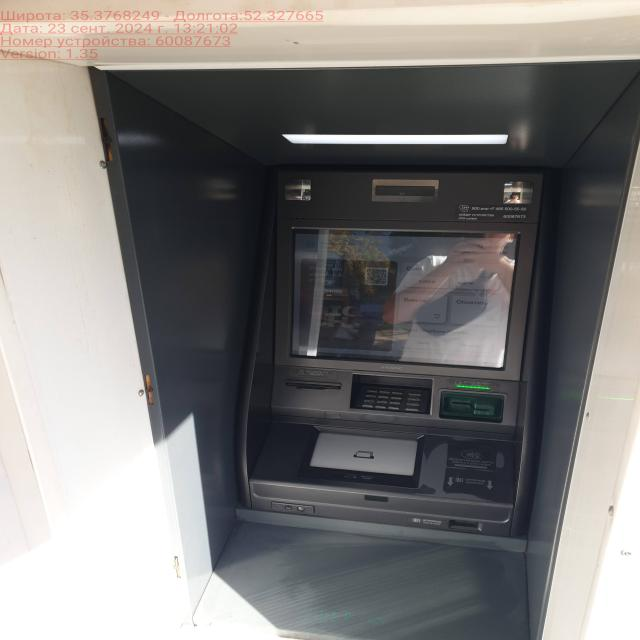bank: (57, 38, 630, 636)
